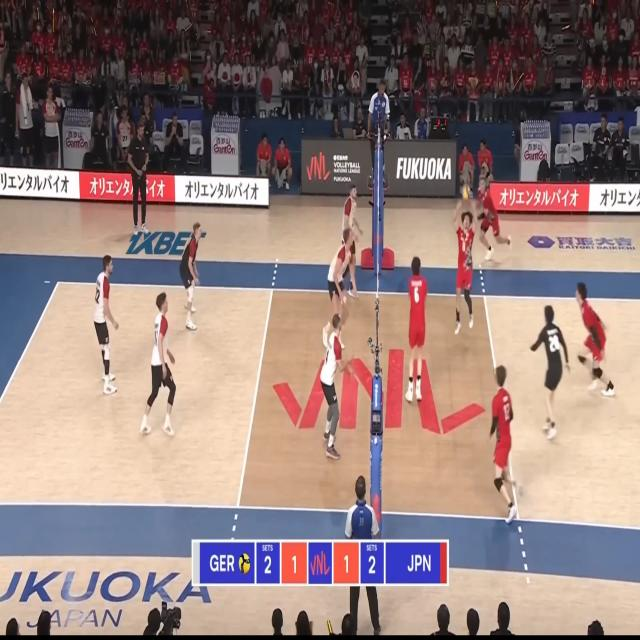ball: (462, 184, 470, 200)
